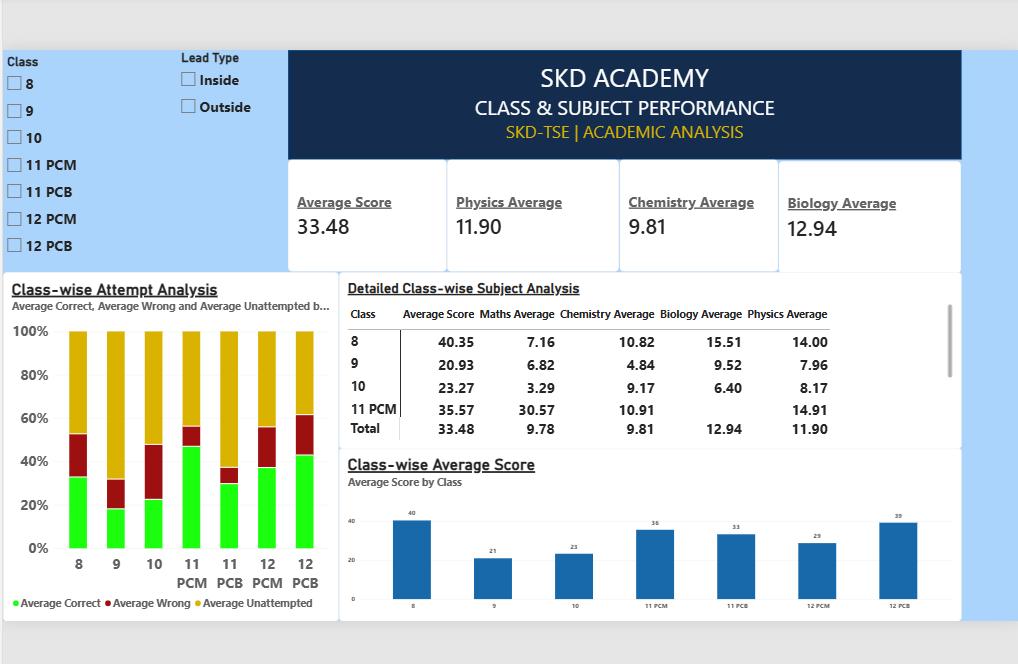

The dashboard page shown, as its layout file describes it:
{"tool":"powerbi","page":{"name":"Class & Subject Performance","canvas":[1920,1080],"ordinal":2},"visuals":[{"type":"shape","box":[538.6,0,1272.8,206.9],"z":0},{"type":"cardVisual","fields":{"Data":["TSE_Data.Average Score"]},"box":[538.6,206.9,300.5,212.6],"z":1000},{"type":"cardVisual","fields":{"Data":["TSE_Data.Biology Average"]},"box":[1465.5,209.8,345.8,212.6],"z":2000},{"type":"cardVisual","fields":{"Data":["TSE_Data.Physics Average"]},"box":[839.1,206.9,326,212.6],"z":3000},{"type":"cardVisual","fields":{"Data":["TSE_Data.Chemistry Average"]},"box":[1165,206.9,300.5,212.6],"z":4000},{"type":"clusteredColumnChart","title":"Class-wise Average Score","fields":{"Category":["Class_Sorting.Class"],"Y":["TSE_Data.Average Score"]},"box":[635,751.2,1176.4,328.8],"z":5000},{"type":"hundredPercentStackedColumnChart","title":"Class-wise Attempt Analysis","fields":{"Category":["Class_Sorting.Class"],"Y":["TSE_Data.Average Correct","TSE_Data.Average Wrong","TSE_Data.Average Unattempted"]},"box":[0,419.5,635,660.5],"z":6000},{"type":"pivotTable","title":"Detailed Class-wise Subject Analysis","fields":{"Rows":["Class_Sorting.Class"],"Values":["TSE_Data.Average Score","TSE_Data.Maths Average","TSE_Data.Chemistry Average","TSE_Data.Biology Average","TSE_Data.Physics Average"]},"box":[635,419.5,1176.4,334.5],"z":7000},{"type":"slicer","fields":{"Values":["Class_Sorting.Class"]},"box":[0,8.5,238.1,385.5],"z":8000},{"type":"slicer","fields":{"Values":["TSE_Data.Lead Type"]},"box":[328.8,0,209.8,167.2],"z":9000},{"type":"textbox","box":[538.6,0,1272.8,206.9],"z":10000}]}

Visuals, with their boxes on the page's 1920x1080 design canvas (x1, y1, x2, y2). These are canvas units, not pixel positions in the 1018x664 screenshot, which may show the page scaled, cropped or inside an application window:
shape: [left=539, top=0, right=1811, bottom=207]
cardVisual - TSE_Data.Average Score: [left=539, top=207, right=839, bottom=420]
cardVisual - TSE_Data.Biology Average: [left=1466, top=210, right=1811, bottom=422]
cardVisual - TSE_Data.Physics Average: [left=839, top=207, right=1165, bottom=420]
cardVisual - TSE_Data.Chemistry Average: [left=1165, top=207, right=1466, bottom=420]
"Class-wise Average Score" clusteredColumnChart: [left=635, top=751, right=1811, bottom=1080]
"Class-wise Attempt Analysis" hundredPercentStackedColumnChart: [left=0, top=420, right=635, bottom=1080]
"Detailed Class-wise Subject Analysis" pivotTable: [left=635, top=420, right=1811, bottom=754]
slicer - Class_Sorting.Class: [left=0, top=8, right=238, bottom=394]
slicer - TSE_Data.Lead Type: [left=329, top=0, right=539, bottom=167]
textbox: [left=539, top=0, right=1811, bottom=207]
